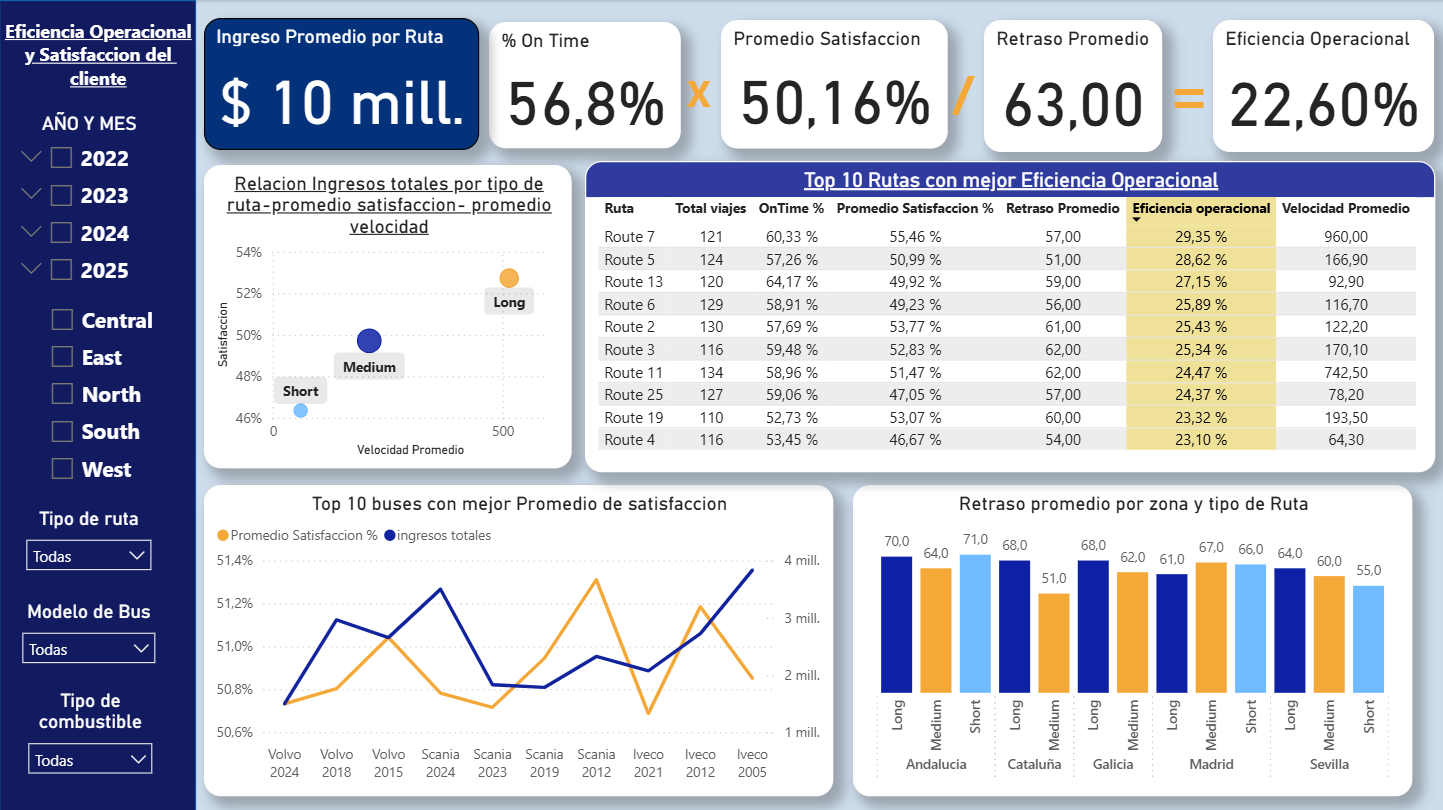

The dashboard page shown, as its layout file describes it:
{"tool":"powerbi","page":{"name":"Eficiencia operacional y Satisfaccion del cliente","canvas":[1280,720],"ordinal":1},"visuals":[{"type":"card","fields":{"Values":["Avg(Consulta2.average_speed_km_h)"]},"box":[5,16.1,158.9,109.6],"z":0},{"type":"card","title":"Retraso Promedio","fields":{"Values":["Consulta2.retraso promedio"]},"box":[873.8,18.1,157.9,116.6],"z":1000},{"type":"card","title":"Promedio Satisfaccion","fields":{"Values":["Consulta2.Promedio Satisfaccion %"]},"box":[640.5,17.4,200.5,113.6],"z":2000},{"type":"card","title":"% On Time","fields":{"Values":["Consulta2.OnTime %"]},"box":[434.9,19.4,169.8,111.5],"z":3000},{"type":"card","title":"Ingreso Promedio por Ruta","fields":{"Values":["Consulta2.ingreso promedio por ruta"]},"box":[182.1,16.4,243.5,116.6],"z":4000},{"type":"card","title":"Eficiencia Operacional","fields":{"Values":["Consulta2.eficiencia operacional"]},"box":[1076.9,18.1,196.1,116.6],"z":5000},{"type":"textbox","box":[604.7,55.3,38.9,59.3],"z":6000},{"type":"textbox","box":[840.6,46.3,40.2,75.4],"z":7000},{"type":"textbox","box":[1031.6,40.2,69.4,89.5],"z":8000},{"type":"shape","box":[0,0,175,720.3],"z":9000},{"type":"scatterChart","title":"Relacion Ingresos totales por tipo de ruta-promedio satisfaccion- promedio velocidad","fields":{"X":["Avg(Consulta2.average_speed_km_h)"],"Size":["Consulta2.ingresos totales"],"Category":["Consulta2.Route_type"],"Y":["Consulta2.Promedio Satisfaccion %"]},"box":[182.1,146.3,326.4,269.1],"z":10000},{"type":"columnChart","title":"Retraso promedio por zona y tipo de Ruta","fields":{"Category":["Consulta2.provincia","Consulta2.Route_type"],"Y":["Consulta2.retraso promedio"]},"box":[757.2,429.7,496.2,276.3],"z":11000},{"type":"lineChart","title":"Top 10 buses con mejor Promedio de satisfaccion","fields":{"Category":["Consulta2.bus_modelo-año"],"Y2":["Consulta2.ingresos totales"],"Y":["Consulta2.Promedio Satisfaccion %"]},"box":[182.1,429.7,557.6,276.3],"z":12000},{"type":"tableEx","title":"Top 10 Rutas con mejor Eficiencia Operacional","fields":{"Values":["Consulta2.route_name","CountNonNull(Consulta2.trip_id)","Consulta2.OnTime %","Consulta2.Promedio Satisfaccion %","Consulta2.retraso promedio","Consulta2.eficiencia operacional","Avg(Consulta2.average_speed_km_h)"]},"box":[519.4,143,753.8,276.2],"z":13000},{"type":"slicer","title":"AÑO Y MES","fields":{"Values":["Consulta2.fecha.Variación.Jerarquía de fechas.Año","Consulta2.fecha.Variación.Jerarquía de fechas.Mes"]},"box":[6.1,99.2,147.3,162.7],"z":14000},{"type":"slicer","fields":{"Values":["Consulta2.zone"]},"box":[33.8,261.9,114.6,178],"z":15000},{"type":"slicer","title":"Tipo de ruta","fields":{"Values":["Consulta2.Route_type"]},"box":[14.3,449.2,131,74.7],"z":16000},{"type":"slicer","title":"Tipo de combustible","fields":{"Values":["Consulta2.fuel_type"]},"box":[15.6,610.8,130.3,84.6],"z":17000},{"type":"slicer","title":"Modelo de Bus","fields":{"Values":["Consulta2.bus_model"]},"box":[10.2,532.1,138.1,71.6],"z":18000},{"type":"textbox","box":[0,11.3,176,110.5],"z":19000}]}

Visuals, with their boxes in screenshot pixels (x1, y1, x2, y2), scaled from the page's 1280x720 canvas onto the 1443x810 screenshot:
card - Avg(Consulta2.average_speed_km_h): 6/18/185/141
"Retraso Promedio" card: 985/20/1163/152
"Promedio Satisfaccion" card: 722/20/948/147
"% On Time" card: 490/22/682/147
"Ingreso Promedio por Ruta" card: 205/18/480/150
"Eficiencia Operacional" card: 1214/20/1435/152
textbox: 682/62/726/129
textbox: 948/52/993/137
textbox: 1163/45/1241/146
shape: 0/0/197/809
"Relacion Ingresos totales por tipo de ruta-promedio satisfaccion- promedio velocidad" scatterChart: 205/165/573/467
"Retraso promedio por zona y tipo de Ruta" columnChart: 854/483/1413/794
"Top 10 buses con mejor Promedio de satisfaccion" lineChart: 205/483/834/794
"Top 10 Rutas con mejor Eficiencia Operacional" tableEx: 586/161/1435/472
"AÑO Y MES" slicer: 7/112/173/295
slicer - Consulta2.zone: 38/295/167/495
"Tipo de ruta" slicer: 16/505/164/589
"Tipo de combustible" slicer: 18/687/164/782
"Modelo de Bus" slicer: 11/599/167/679
textbox: 0/13/198/137
